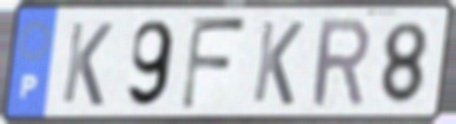8: (379, 19, 434, 105)
9: (124, 17, 176, 110)
F: (177, 14, 249, 114)
K: (58, 19, 115, 110), (249, 18, 306, 109)
R: (309, 14, 373, 111)
